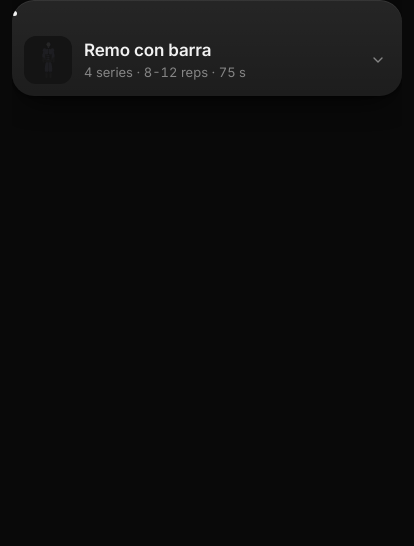
fila del editor de rutina › tocar una cifra deja escribir otra (la actual queda como pista) y salir sin escribir no cambia nada
This screenshot has width=414, height=546.
Later steps or results of the test are not shown.
Click the button "Remo con barra 4 series · 8-12 reps · 75 s" at [207, 60], box 12,24 -> 402,96
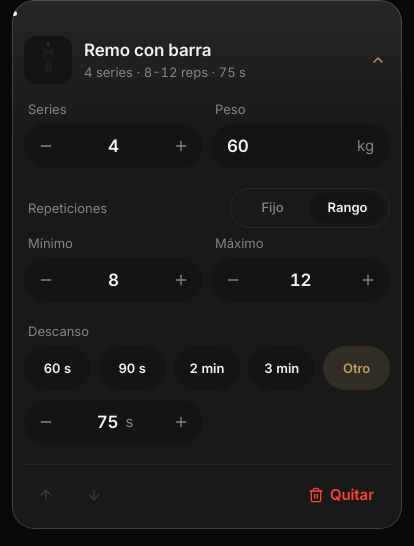
Focus the field named "Máximo de repeticiones" at [300, 280], box 255,258 -> 346,302
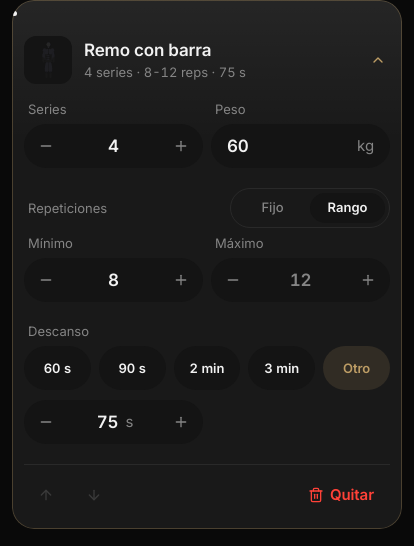
Expected: the field named "Máximo de repeticiones" is empty
Leave the field named "Máximo de repeticiones", box 255,258 -> 346,302
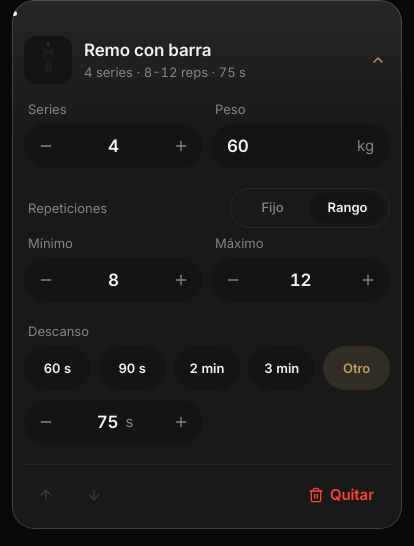
Expected: the field named "Máximo de repeticiones" holds "12", 255,258 -> 346,302
